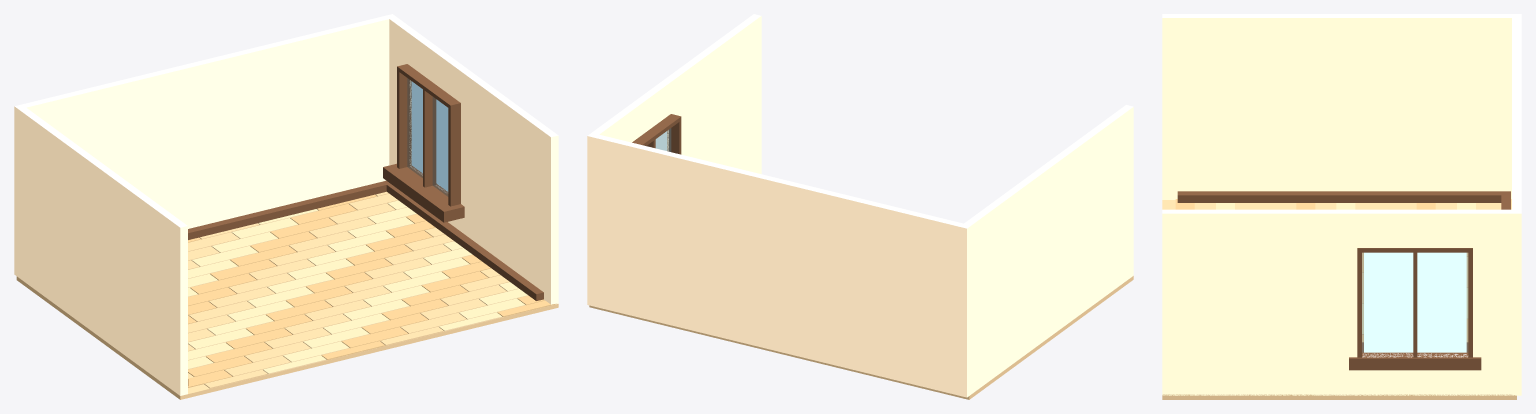
File: room-shell-lod0.glb
3 renders of one model, left to right at view 1: azimuth 30°, elevation 25°; view 2: azimuth 150°, elevation 25°; view 3: azimuth 270°, elevation 25°, orthographic. The views are drawn at different scales.
Visible parts, largest first — view 1: MESH_BackWall, MESH_LeftWall, MESH_RightWallFront, MESH_RightWallUpper, MESH_RightWallLower, MESH_WindowReveal, MESH_Floor, MESH_TrimBack, MESH_TrimRight, MESH_WindowSky, MESH_WindowSill, MESH_WindowFrameBack (+65 smaller); view 2: MESH_BackWall, MESH_LeftWall, MESH_RightWallFront, MESH_RightWallUpper, MESH_Floor, MESH_WindowFrameTop; view 3: MESH_LeftWall, MESH_RightWallFront, MESH_RightWallUpper, MESH_RightWallLower, MESH_WindowSky, MESH_RightWallBack, MESH_TrimLeft, MESH_BackWall, MESH_Floor, MESH_WindowSill, MESH_WindowFrameBack, MESH_WindowFrameFront (+2 smaller).
Boxes of the visible parts, box(x1,y1,x2,y2) form: MESH_BackWall: box(14, 14, 396, 277); MESH_LeftWall: box(16, 107, 187, 395); MESH_RightWallFront: box(461, 107, 558, 269); MESH_RightWallUpper: box(389, 16, 558, 172); MESH_RightWallLower: box(389, 152, 558, 304); MESH_WindowReveal: box(407, 78, 447, 196); MESH_Floor: box(16, 210, 558, 399); MESH_TrimBack: box(188, 180, 390, 239); MESH_TrimRight: box(386, 184, 543, 300); MESH_WindowSky: box(411, 81, 448, 191); MESH_WindowSill: box(383, 163, 464, 222); MESH_WindowFrameBack: box(397, 64, 411, 168); MESH_BackWall: box(587, 133, 971, 397); MESH_LeftWall: box(964, 105, 1133, 394); MESH_RightWallFront: box(667, 52, 761, 167); MESH_RightWallUpper: box(590, 14, 761, 142); MESH_Floor: box(589, 276, 1133, 399); MESH_WindowFrameTop: box(632, 115, 679, 145); MESH_LeftWall: box(1162, 14, 1516, 199); MESH_RightWallFront: box(1162, 252, 1357, 357); MESH_RightWallUpper: box(1162, 209, 1516, 252); MESH_RightWallLower: box(1162, 353, 1516, 395); MESH_WindowSky: box(1364, 252, 1466, 352); MESH_RightWallBack: box(1473, 252, 1516, 357); MESH_TrimLeft: box(1177, 191, 1501, 202); MESH_BackWall: box(1512, 14, 1521, 395); MESH_Floor: box(1162, 200, 1516, 399); MESH_WindowSill: box(1349, 342, 1481, 370); MESH_WindowFrameBack: box(1468, 248, 1472, 357); MESH_WindowFrameFront: box(1357, 248, 1361, 357).
Bounding box in the file's own units: 8.06 × 3.48 × 6.08.
